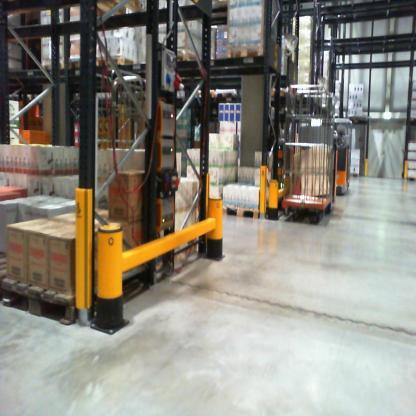pallets: (0, 268, 77, 327), (223, 203, 262, 221)
